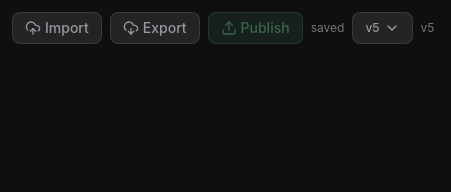
Test: browser publish button › version menu opens and renders published versions
This screenshot has width=451, height=192.
Click the button with test id "published-version-menu-trigger" at (382, 28), box [352,12,412,44]
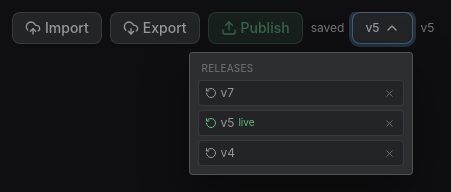
Check: the element with test id "published-version-menu-content" is shown, box [188,52,412,175]
Check: the element with test id "published-version-item-7" is shown, box [198,80,404,106]
Check: the element with test id "published-version-item-5" is shown, box [198,110,404,136]
